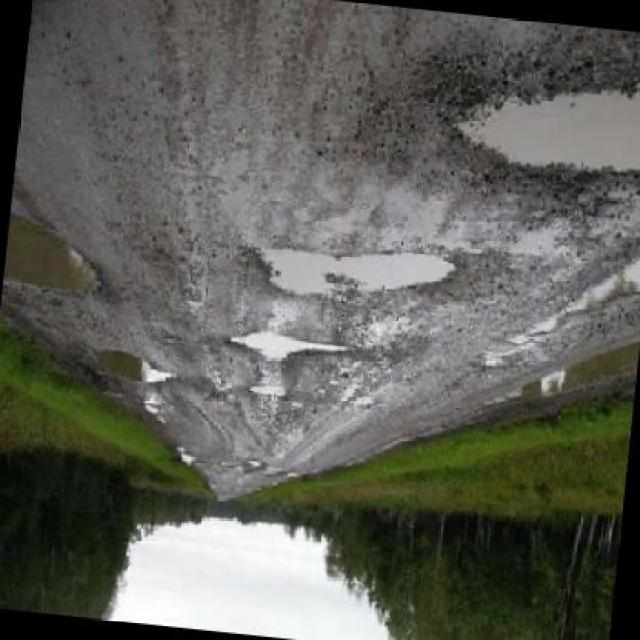pothole1: (444, 52, 638, 196), (234, 232, 461, 318), (1, 217, 110, 306), (224, 325, 354, 373), (92, 343, 179, 397), (246, 381, 289, 404), (175, 447, 198, 470)
